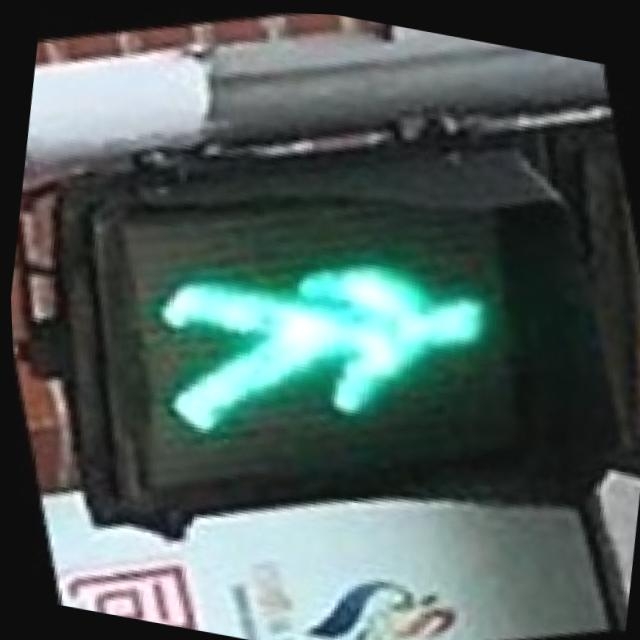green_light: (54, 95, 598, 554)
